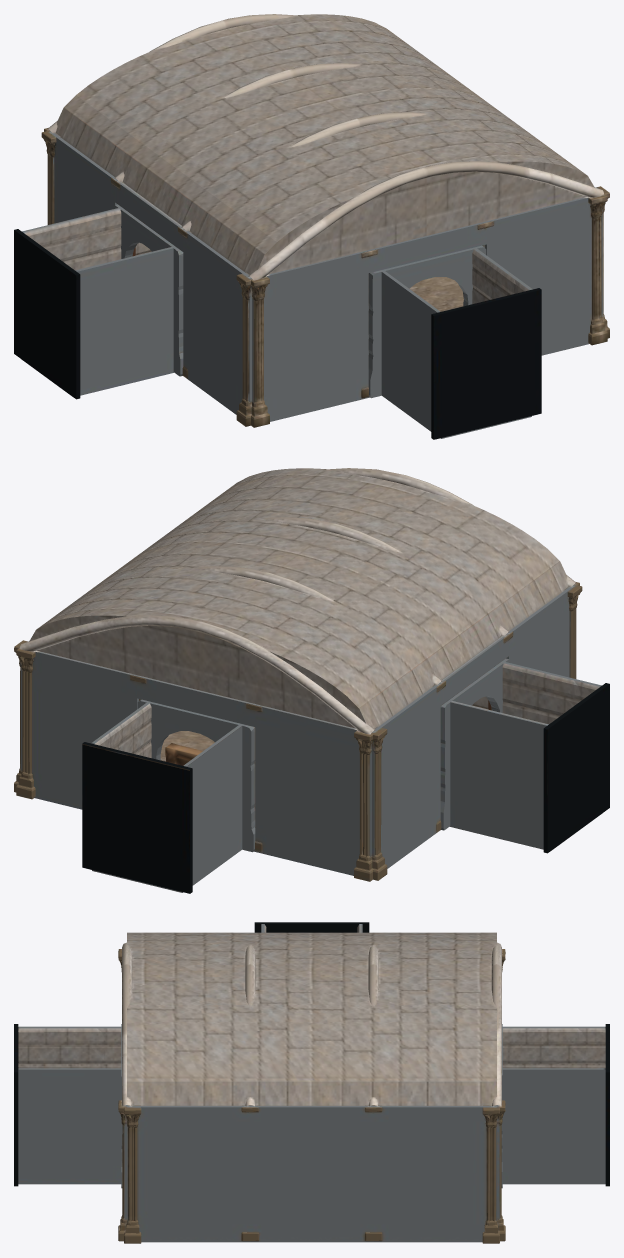
Rendered from room.glb.
3 renders of one model, top to bottom at view 1: azimuth 30°, elevation 25°; view 2: azimuth 150°, elevation 25°; view 3: azimuth 270°, elevation 25°, orthographic. The views are drawn at different scales.
Parts seen in each view (by area): view 1: WIZARDS-WORKSHOP; view 2: WIZARDS-WORKSHOP; view 3: WIZARDS-WORKSHOP.
Boxes of the visible parts, x1=… form: WIZARDS-WORKSHOP: x1=14, y1=14, x2=609, y2=439; WIZARDS-WORKSHOP: x1=14, y1=468, x2=609, y2=893; WIZARDS-WORKSHOP: x1=14, y1=922, x2=609, y2=1243.
Size of the model in its own units: 13.3 by 5.95 by 16.12.
1 material, 1 textured.
